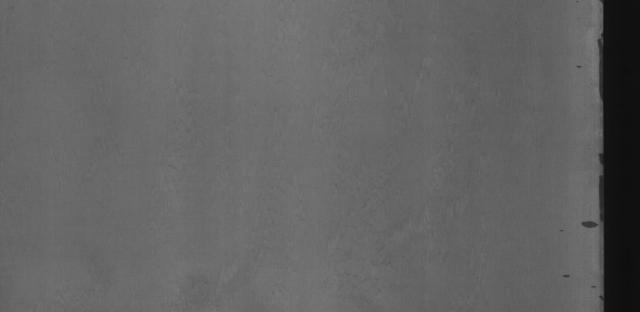oil_spot: (591, 152, 604, 218), (596, 36, 604, 106), (580, 213, 602, 236)
